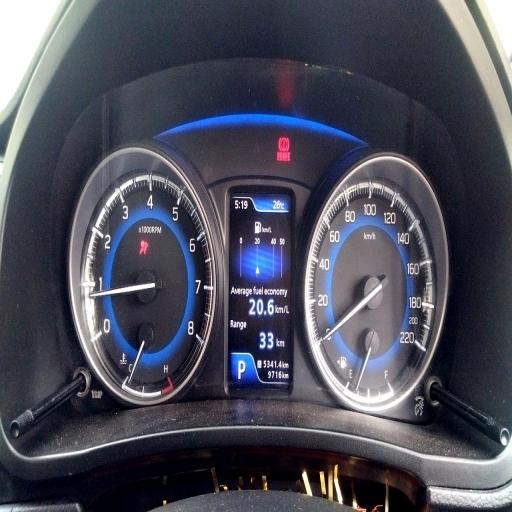brake_system_fault: (278, 136, 289, 152)
tachometer: (81, 172, 217, 399)
